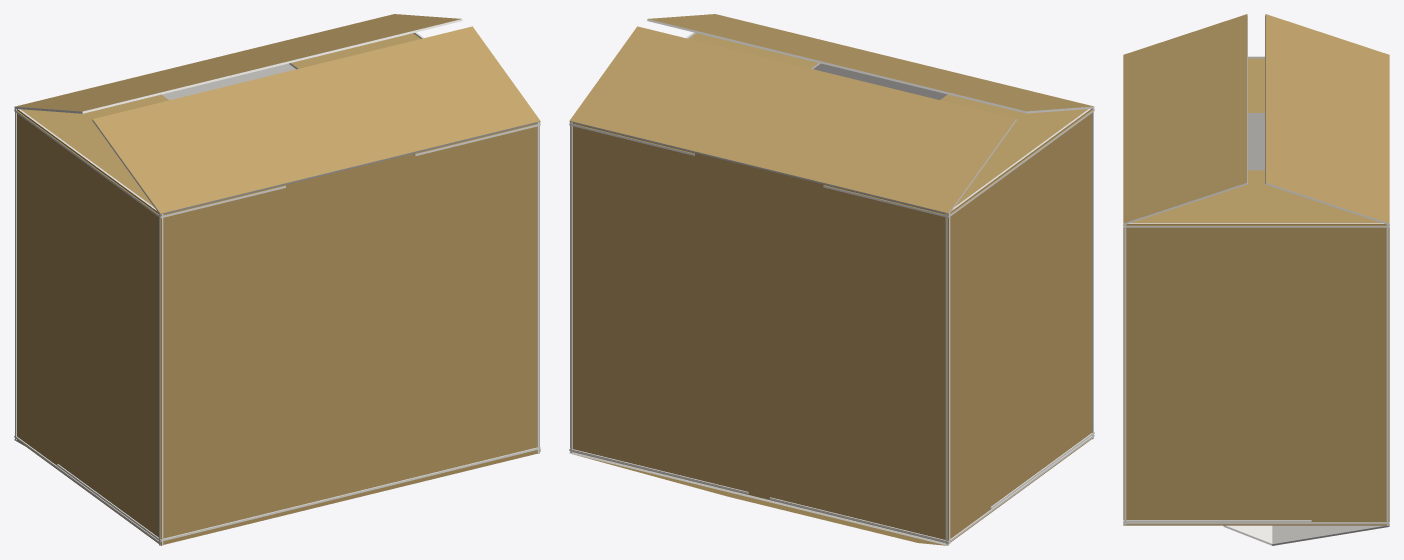
The picture shows the model from 3 angles, left to right: view 1: azimuth 30°, elevation 25°; view 2: azimuth 150°, elevation 25°; view 3: azimuth 270°, elevation 25°; orthographic projection. The views are drawn at different scales.
Parts seen in each view (by area): view 1: Packive_Box_fefco0216; view 2: Packive_Box_fefco0216; view 3: Packive_Box_fefco0216.
Boxes of the visible parts, x1,y1,x2,y2 form: Packive_Box_fefco0216: [14, 14, 540, 545]; Packive_Box_fefco0216: [569, 14, 1094, 545]; Packive_Box_fefco0216: [1123, 14, 1389, 545].
Bounding box in the file's own units: 0.3 × 0.3362 × 0.2.
26 materials, 13 textured.
